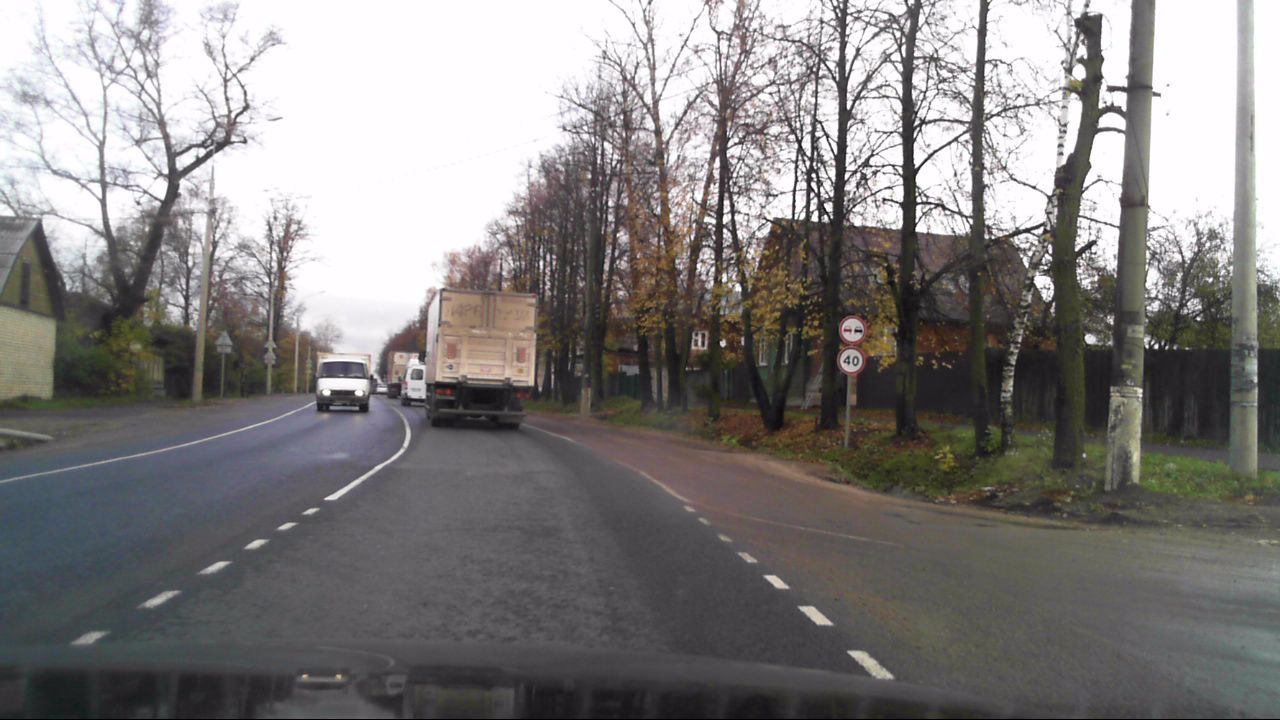speed_warning_40: (837, 346, 866, 374)
